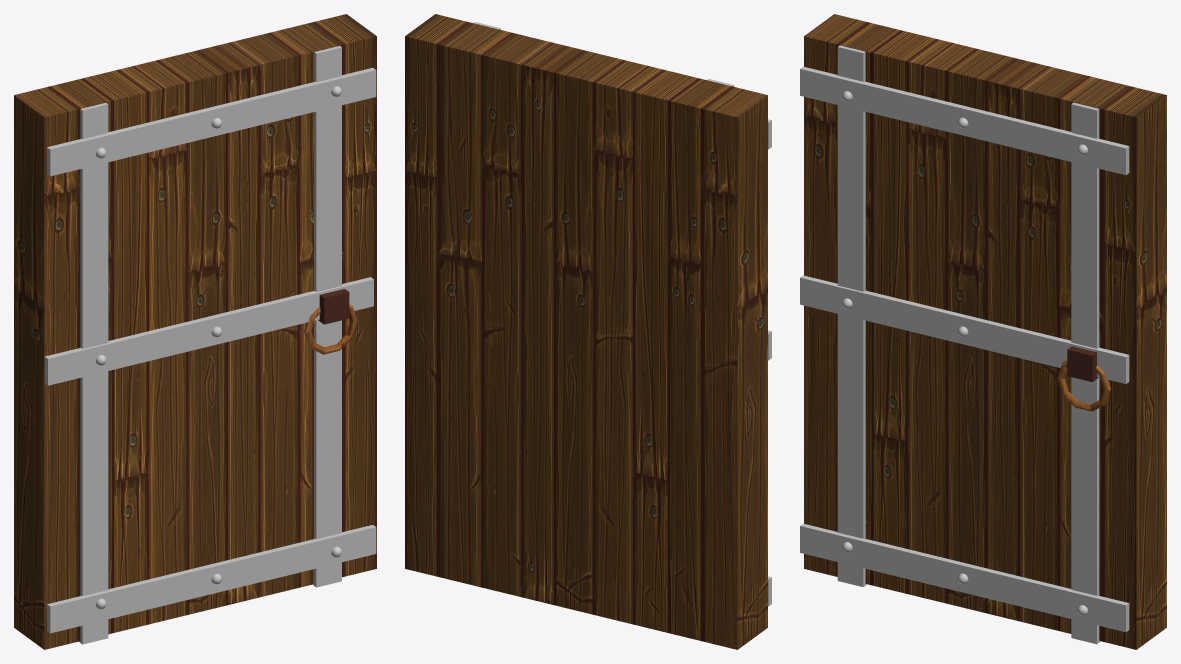
File: pintu2.fbx
3 renders of one model, left to right at view 1: azimuth 30°, elevation 25°; view 2: azimuth 150°, elevation 25°; view 3: azimuth 330°, elevation 25°, orthographic.
Visible parts, largest first — view 1: Plane, Plane.007, Plane.008, Plane.005, Plane.006, Plane.009, Cube.008, Circle.012; view 2: Plane; view 3: Plane, Plane.007, Plane.008, Plane.006, Plane.005, Plane.009, Cube.008, Circle.012.
Part boxes in pixels (x1,y1,x2,y2): Plane: (14,14,376,649); Plane.007: (79,102,108,644); Plane.008: (313,46,341,587); Plane.005: (47,67,376,176); Plane.006: (47,525,376,633); Plane.009: (44,277,373,385); Cube.008: (318,289,349,324); Circle.012: (304,304,357,354); Plane: (405,14,767,649); Plane: (804,14,1166,649); Plane.007: (837,45,866,586); Plane.008: (1071,102,1100,644); Plane.006: (800,523,1129,632); Plane.005: (800,66,1129,175); Plane.009: (800,275,1129,383); Cube.008: (1067,346,1098,381); Circle.012: (1057,360,1110,411).
Bounding box in the file's own units: 506 × 777 × 104.
